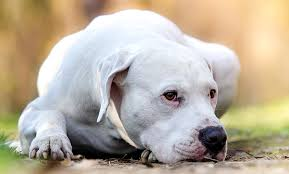dog: (16, 4, 251, 165)
